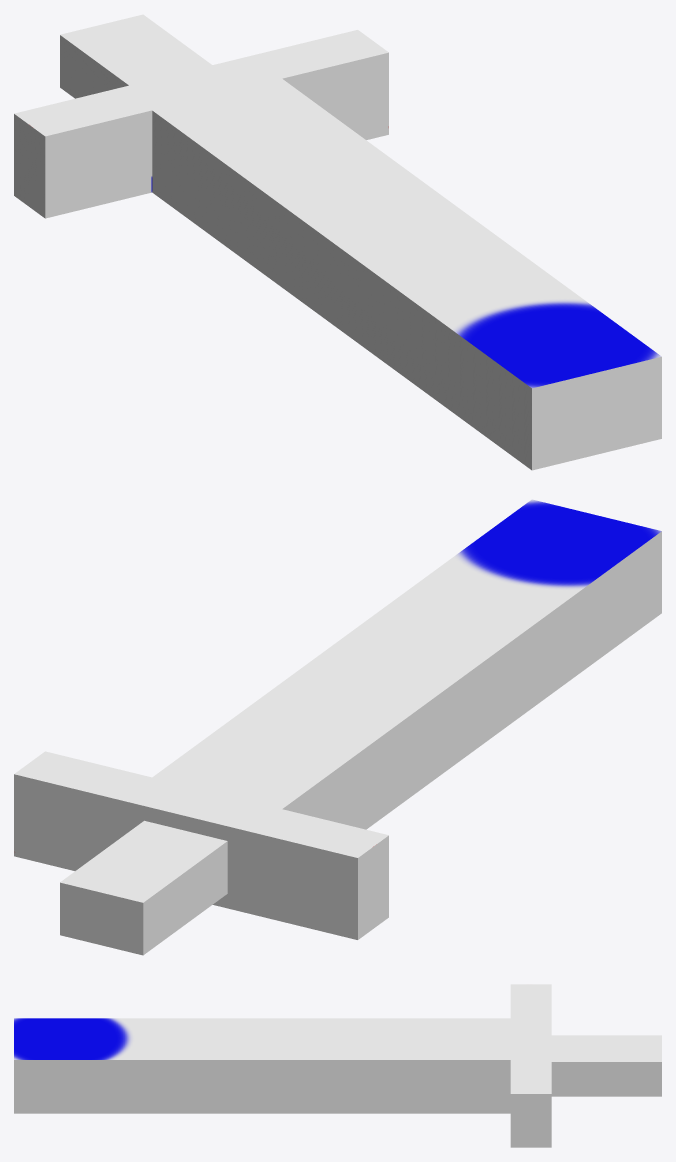
File: sword.obj
3 renders of one model, top to bottom at view 1: azimuth 30°, elevation 25°; view 2: azimuth 150°, elevation 25°; view 3: azimuth 270°, elevation 25°, orthographic. The views are drawn at different scales.
Visible parts, largest first — view 1: Cube; view 2: Cube; view 3: Cube.
Part boxes in pixels (bbox=[...]): Cube: bbox=[14, 14, 661, 470]; Cube: bbox=[14, 499, 661, 955]; Cube: bbox=[14, 984, 661, 1147].
Size of the model in its own units: 0.3722 by 0.0849 by 0.9288.
1 material, 1 textured.
